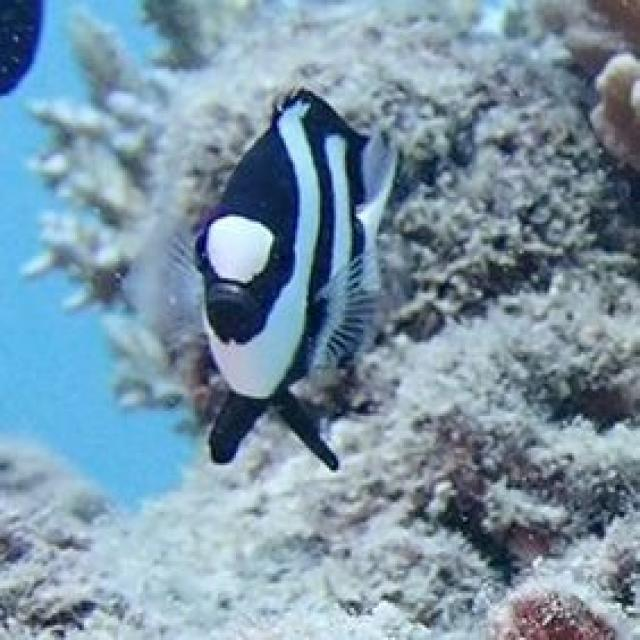ThreeStripedDamselfish: (123, 89, 397, 470)
